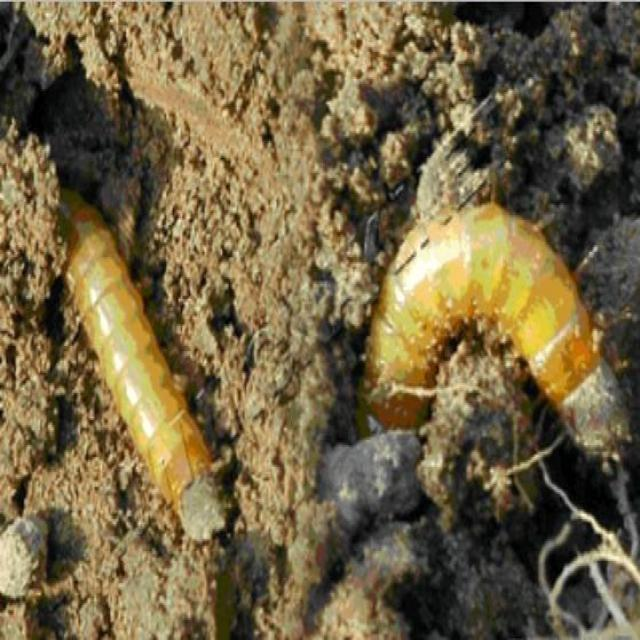Grub-Adult-: (336, 128, 632, 530), (30, 179, 262, 575)
